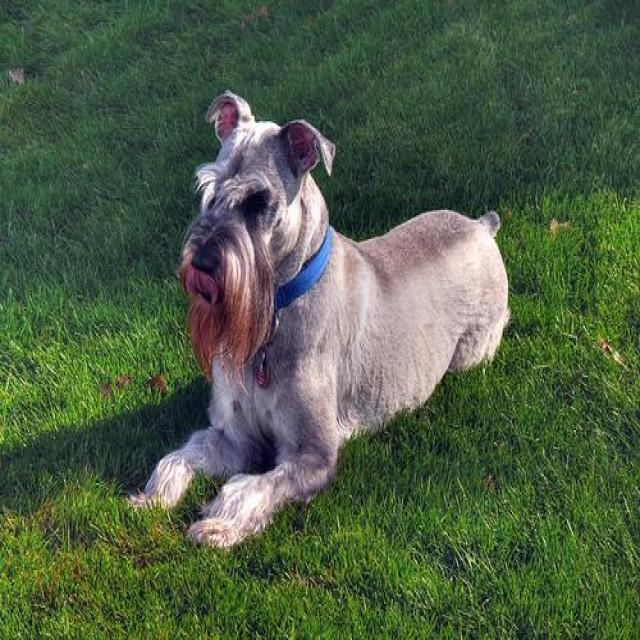standard_schnauzer: (143, 87, 512, 551)
